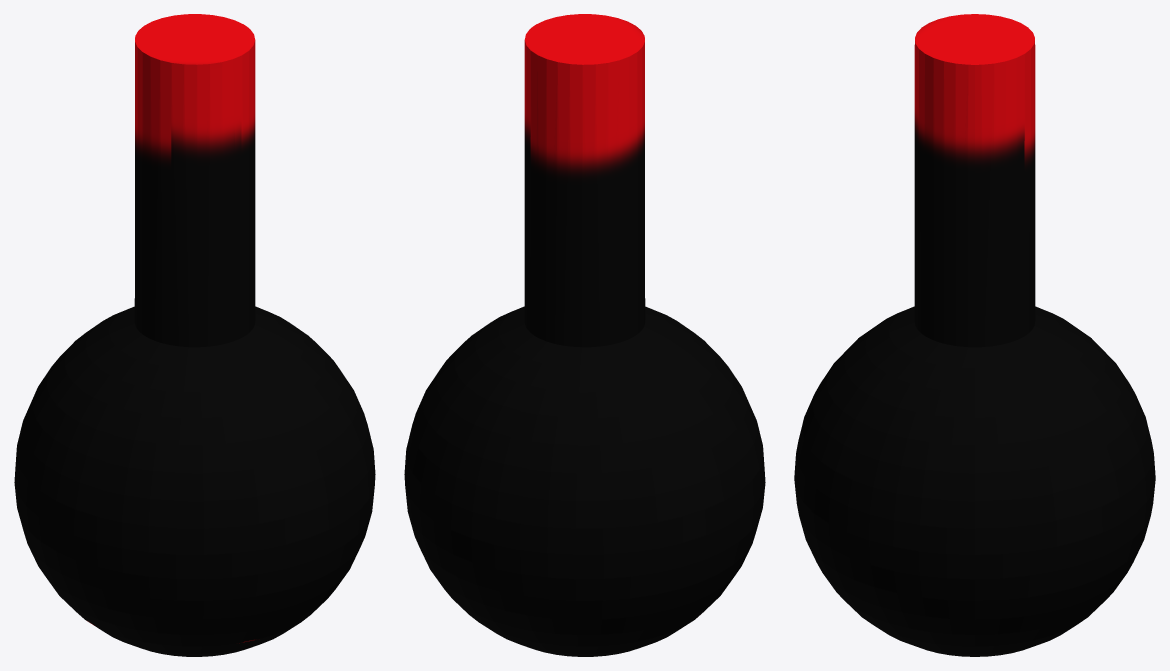
The model's file is another.dae.
The picture shows the model from 3 angles, left to right: view 1: azimuth 30°, elevation 25°; view 2: azimuth 150°, elevation 25°; view 3: azimuth 270°, elevation 25°; orthographic projection.
Parts seen in each view (by area): view 1: Blob; view 2: Blob; view 3: Blob.
Part boxes in pixels (left/top/right/bottom): Blob: left=14, top=14, right=375, bottom=656; Blob: left=404, top=14, right=765, bottom=656; Blob: left=794, top=14, right=1155, bottom=656.
Bounding box in the file's own units: 3 × 3 × 5.5.
1 material, 1 textured.
